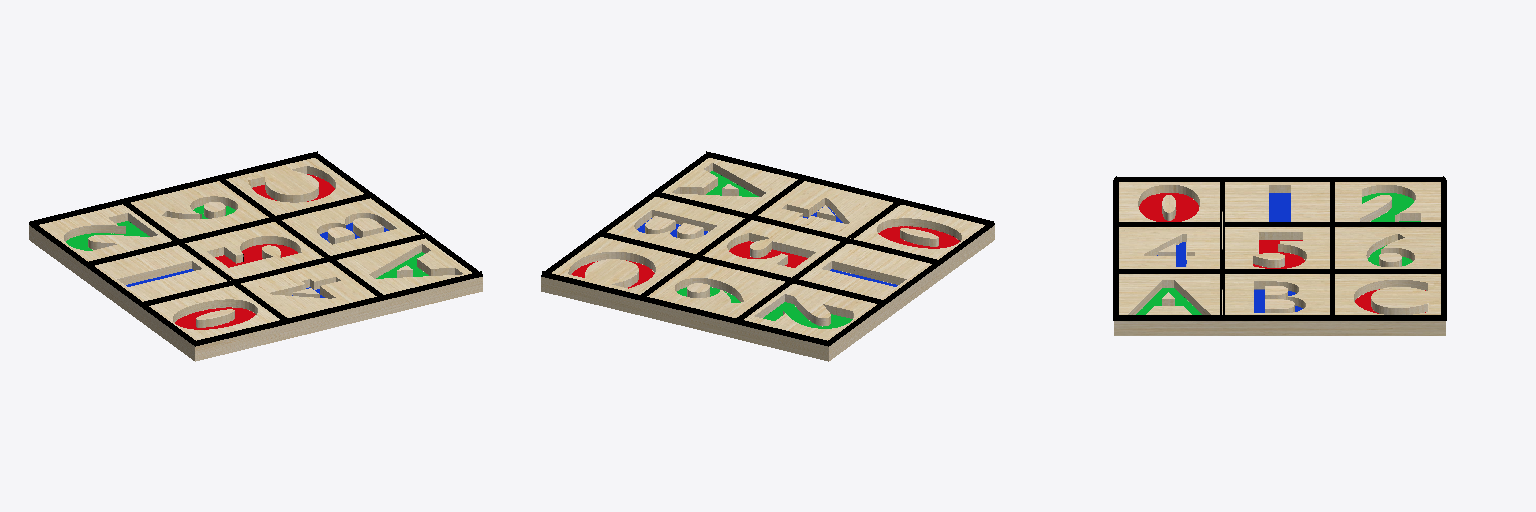
3 renders of one model, left to right at view 1: azimuth 30°, elevation 25°; view 2: azimuth 150°, elevation 25°; view 3: azimuth 270°, elevation 25°, orthographic.
Visible parts, largest first — view 1: Cube.008_Cube.033; view 2: Cube.008_Cube.033; view 3: Cube.008_Cube.033.
Part boxes in pixels (x1,y1,x2,y2): Cube.008_Cube.033: (29,151,482,361); Cube.008_Cube.033: (541,151,994,361); Cube.008_Cube.033: (1113,176,1446,335).
Size of the model in its own units: 12.02 by 0.7712 by 12.02.
Materials: 1 (1 with a texture image).